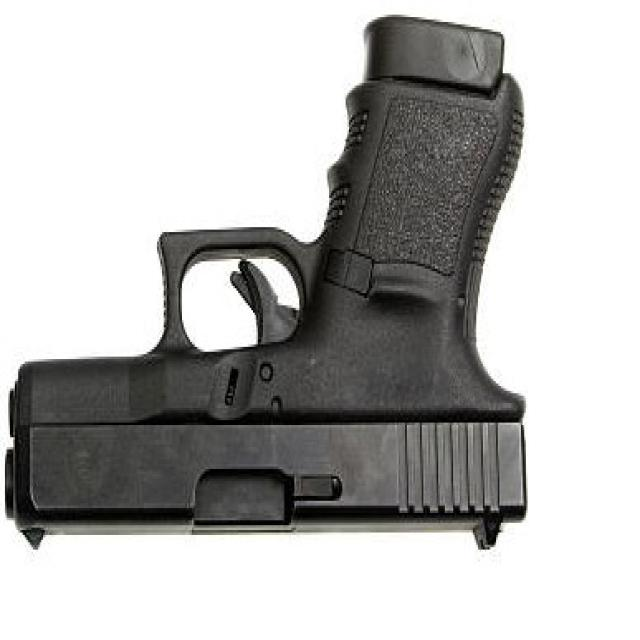pistol: (1, 6, 538, 558)
